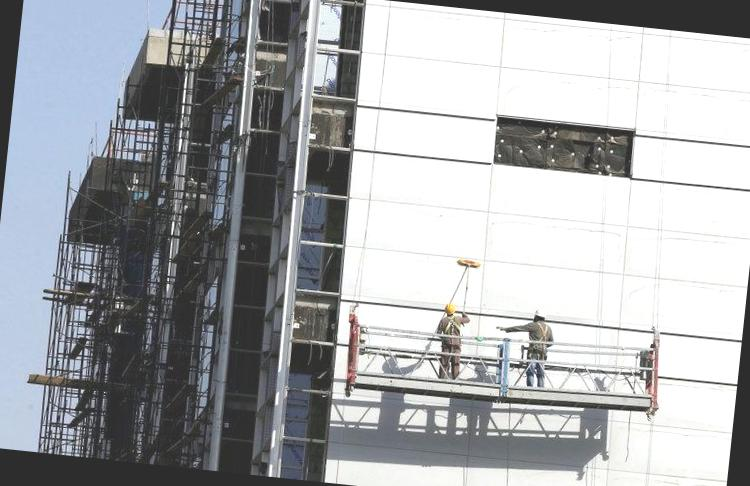person: (505, 299, 561, 389), (426, 296, 474, 382)
